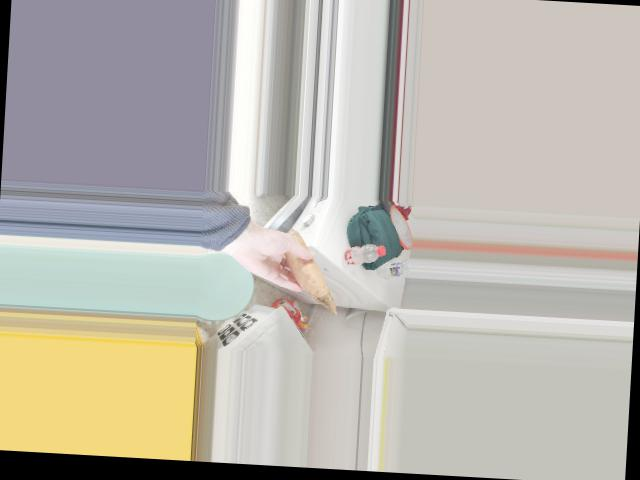sweet_potato: (284, 244, 330, 292)
